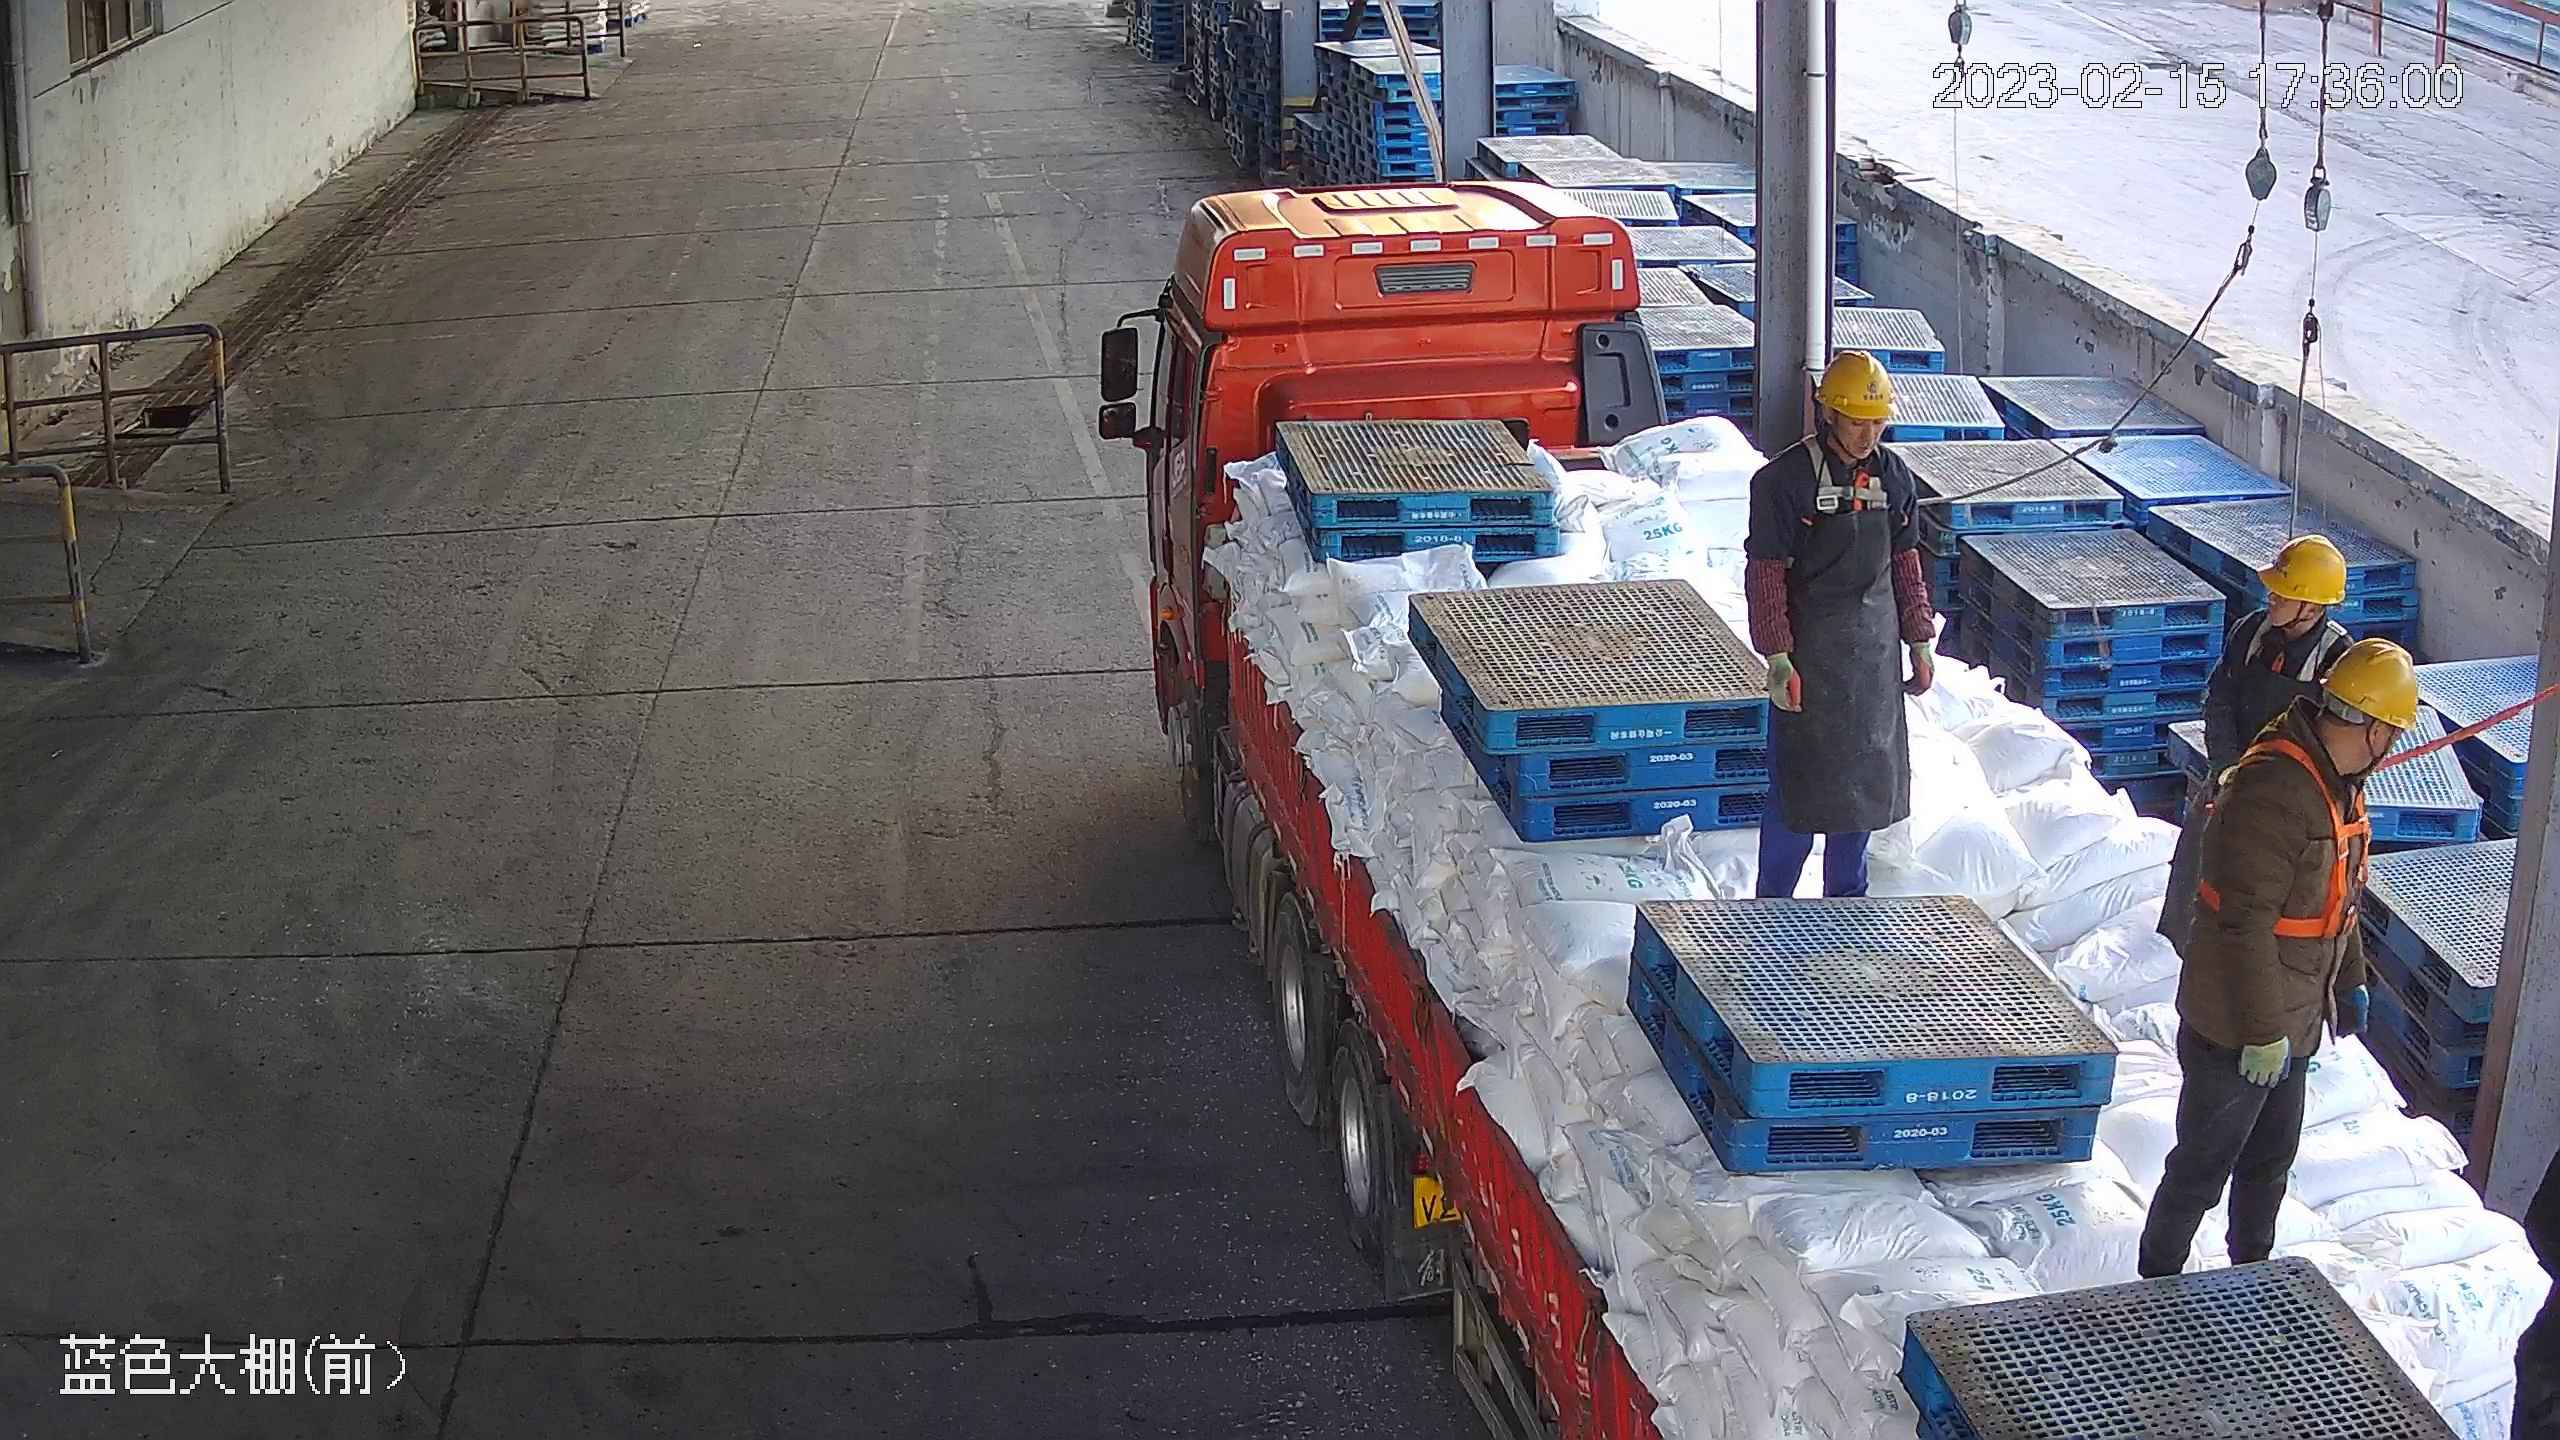belt: (2198, 729, 2386, 934), (1788, 434, 1909, 516), (2246, 615, 2344, 690)
head: (2237, 639, 2412, 864), (1761, 344, 1912, 504), (2204, 539, 2358, 690)
helmet: (2326, 636, 2418, 739), (2256, 539, 2347, 604), (1814, 353, 1890, 422)
people: (2132, 632, 2416, 1283), (1737, 348, 1944, 897)
truck: (1097, 172, 2560, 1440)
